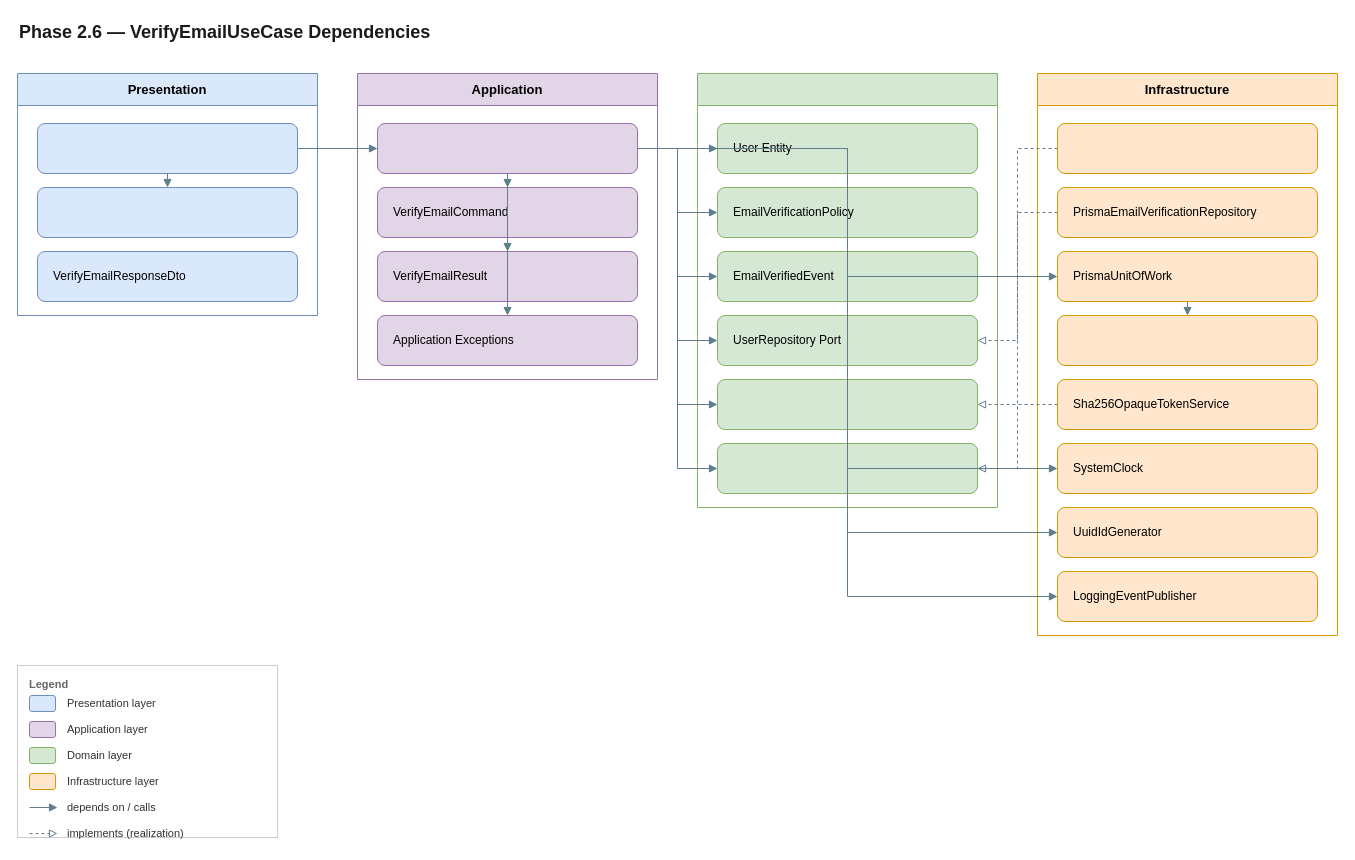
The diagram is 1355 pixels wide and 860 high, and some of its shapes have lost their labels. Here are the shapes that lost their labels. From the top down, the box of each, then its label:
(36, 122, 298, 174): AuthController
(376, 122, 638, 174): VerifyEmailUseCase
(1056, 122, 1318, 174): PrismaUserRepository
(36, 186, 298, 238): VerifyEmailRequestDto
(696, 72, 998, 508): Domain
(1056, 314, 1318, 366): PrismaContext
(716, 378, 978, 430): EmailVerificationRepository Port
(716, 442, 978, 494): OpaqueTokenService Port
